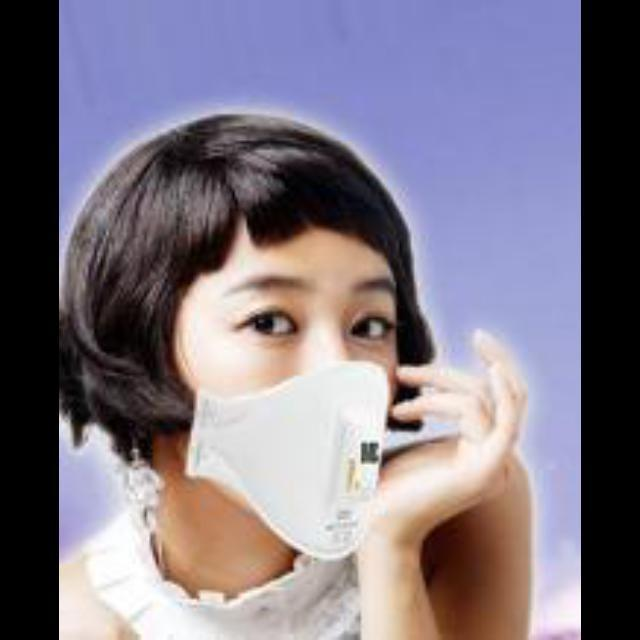suspicion: (58, 126, 404, 574)
